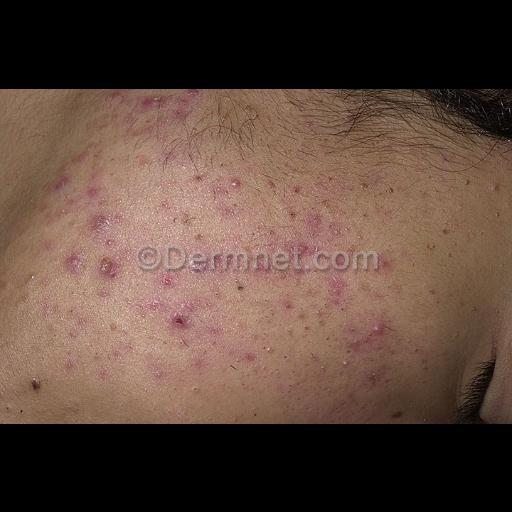Skin_Lesion: (184, 246, 266, 276), (280, 208, 328, 258), (348, 313, 392, 357), (213, 172, 247, 224), (326, 269, 352, 309), (108, 323, 132, 365), (89, 205, 117, 237), (130, 88, 162, 114), (170, 302, 194, 334), (98, 252, 120, 282), (147, 356, 167, 384), (158, 270, 180, 294), (49, 167, 71, 191), (364, 366, 386, 390), (26, 372, 46, 398), (63, 251, 83, 275), (240, 342, 256, 368), (385, 404, 405, 424), (376, 253, 394, 275), (86, 176, 104, 198), (106, 88, 134, 102), (61, 350, 77, 374), (206, 320, 222, 344), (291, 176, 307, 196), (284, 294, 296, 316), (184, 88, 204, 98), (73, 151, 87, 163)
